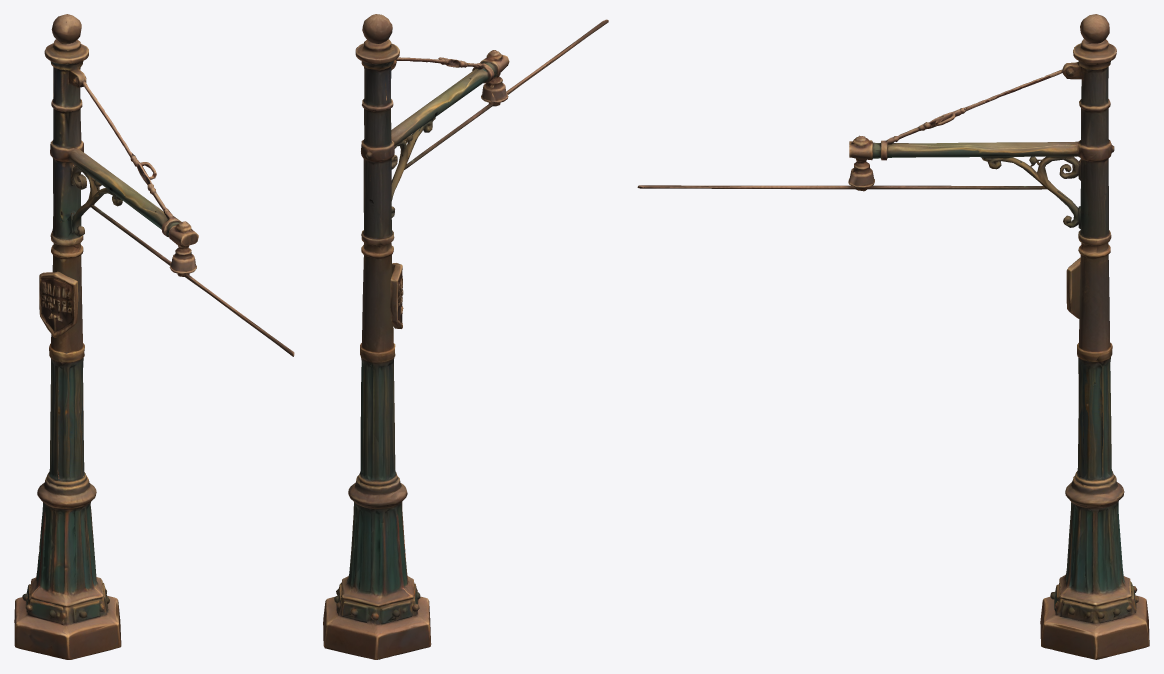
Rendered from trolley-wire-pole.glb.
3 views of the same model, side by side, from view 1: azimuth 30°, elevation 25°; view 2: azimuth 150°, elevation 25°; view 3: azimuth 270°, elevation 25° (orthographic).
Visible parts, largest first — view 1: SM_TrolleyWirePole; view 2: SM_TrolleyWirePole; view 3: SM_TrolleyWirePole.
Boxes of the visible parts, x1,y1,x2,y2 form: SM_TrolleyWirePole: (14,14,294,659); SM_TrolleyWirePole: (323,14,608,659); SM_TrolleyWirePole: (637,14,1149,659).
Size of the model in its own units: 1.35 by 7.5 by 5.63.
Materials: 1 (1 with a texture image).
